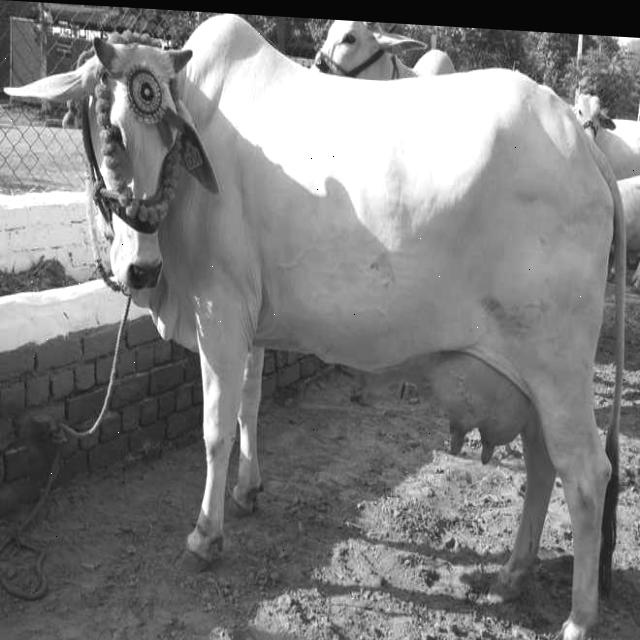Cow: (2, 0, 628, 640)
